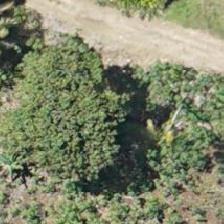coconut_tree: (22, 76, 112, 166)
